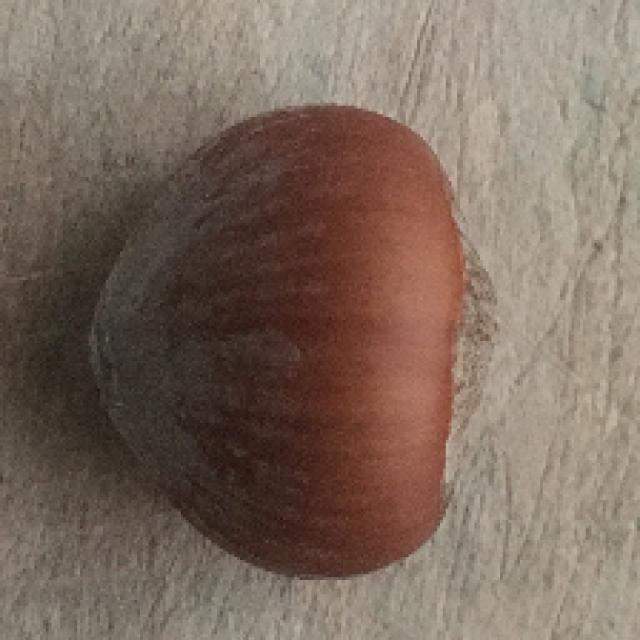qualityHazelnut: (97, 98, 497, 581)
